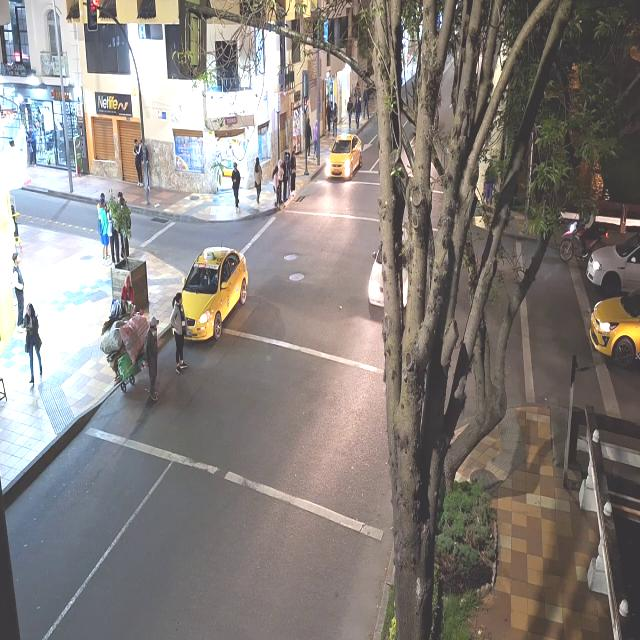MOTORCYCLE: (558, 223, 607, 262)
SED: (178, 250, 240, 338), (588, 291, 638, 362), (588, 236, 640, 288), (329, 134, 360, 178)
